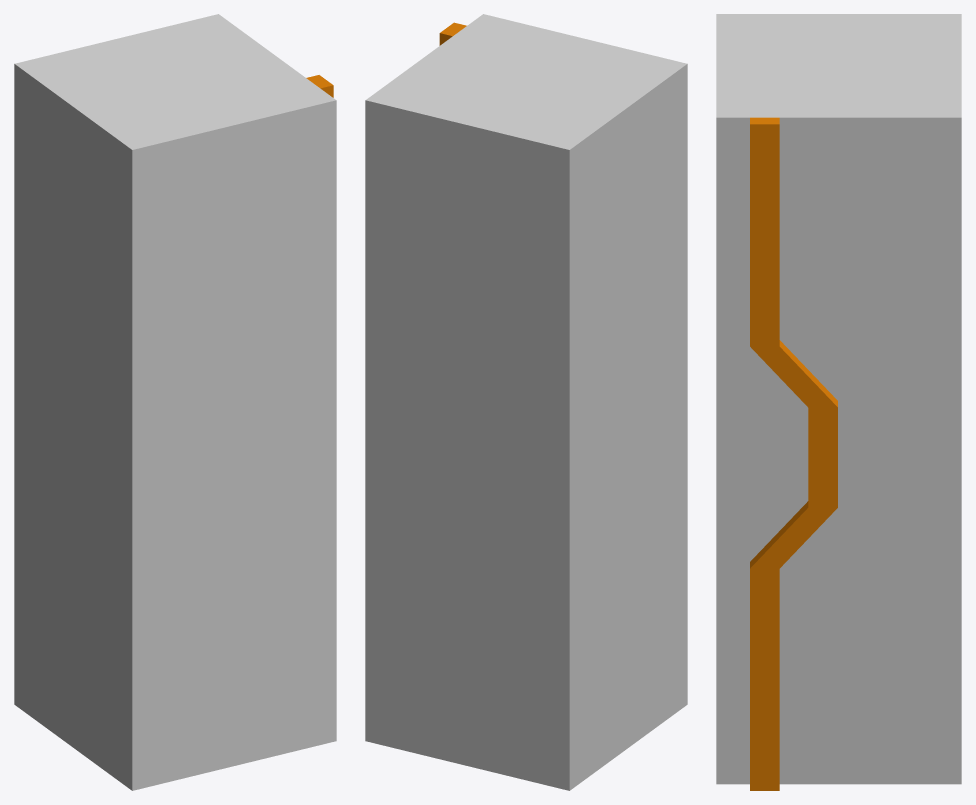
File: Wall1.fbx
3 renders of one model, left to right at view 1: azimuth 30°, elevation 25°; view 2: azimuth 150°, elevation 25°; view 3: azimuth 270°, elevation 25°, orthographic. The views are drawn at different scales.
Visible parts, largest first — view 1: Cube; view 2: Cube; view 3: Cube.
Boxes of the visible parts, x1=… form: Cube: x1=14, y1=14, x2=336, y2=790; Cube: x1=365, y1=14, x2=687, y2=790; Cube: x1=716, y1=14, x2=961, y2=790.
Bounding box in the file's own units: 213 × 600 × 200.
